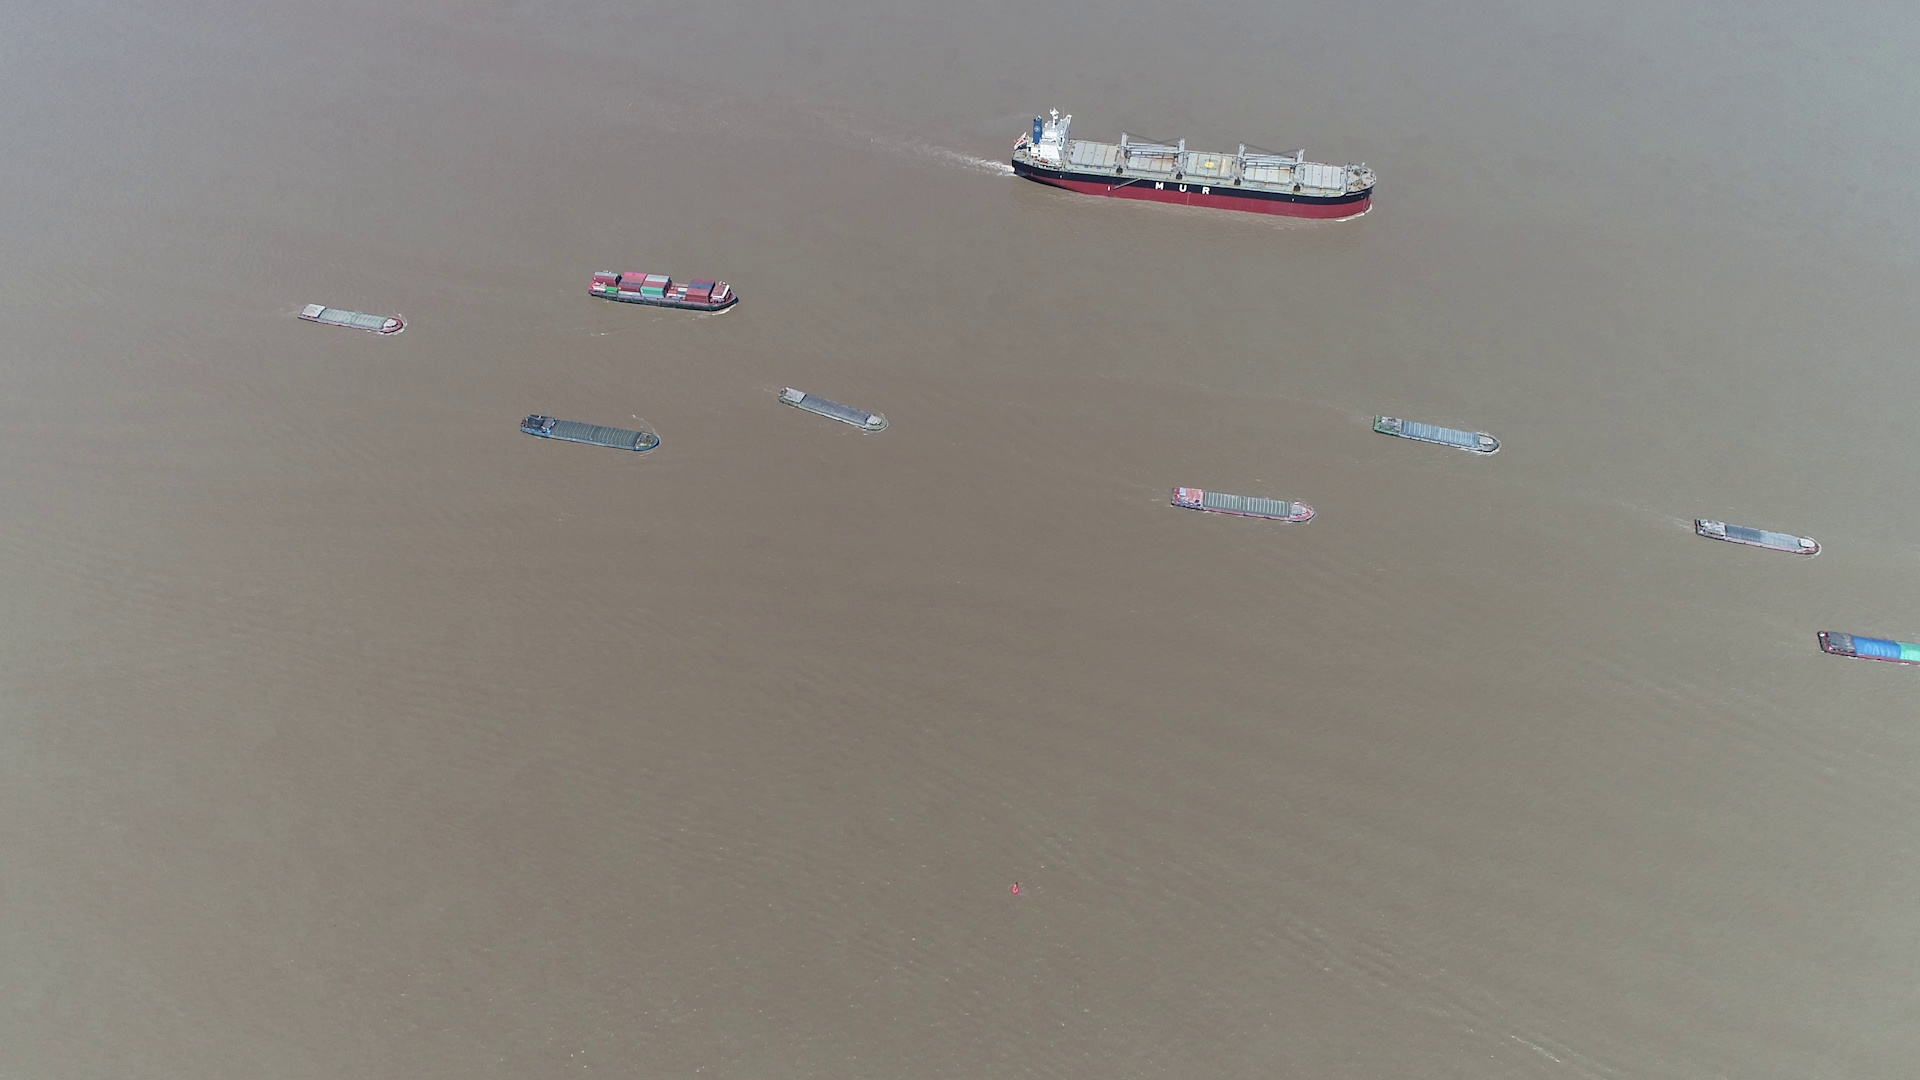ship: (1009, 111, 1373, 216), (589, 270, 738, 311), (520, 414, 662, 454), (1171, 487, 1315, 524), (1691, 516, 1818, 556), (1373, 414, 1499, 455), (778, 388, 889, 434), (1818, 630, 1920, 667), (297, 301, 405, 334)
